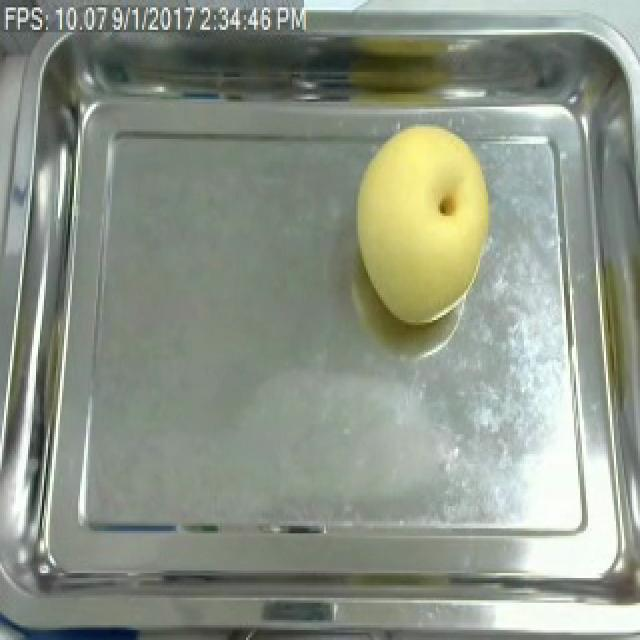Fruit: (346, 114, 502, 330)
